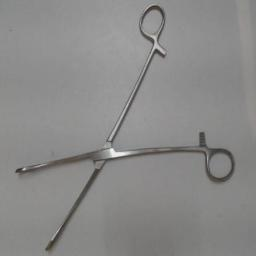Sponge Forceps: (10, 2, 238, 252)
